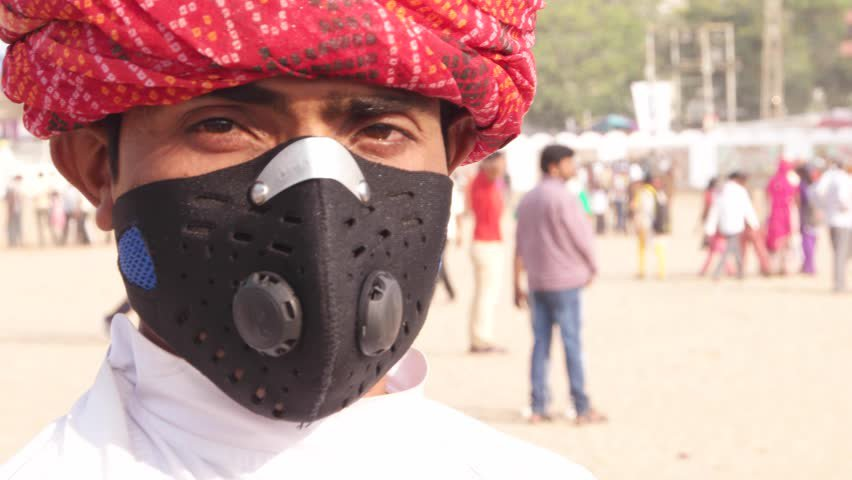mask: (102, 97, 458, 429)
